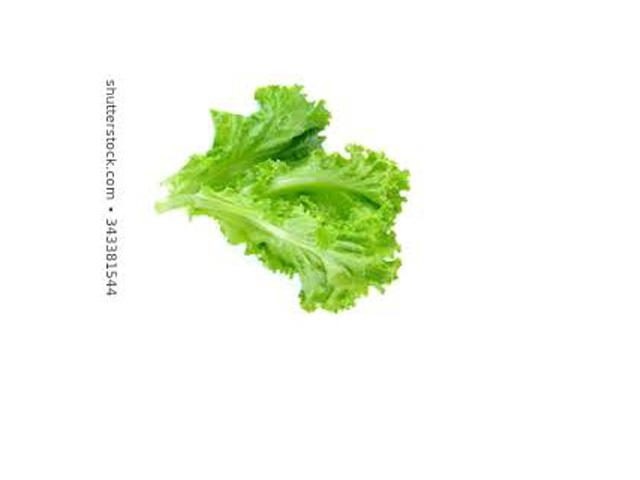lettuce: (136, 76, 414, 310)
